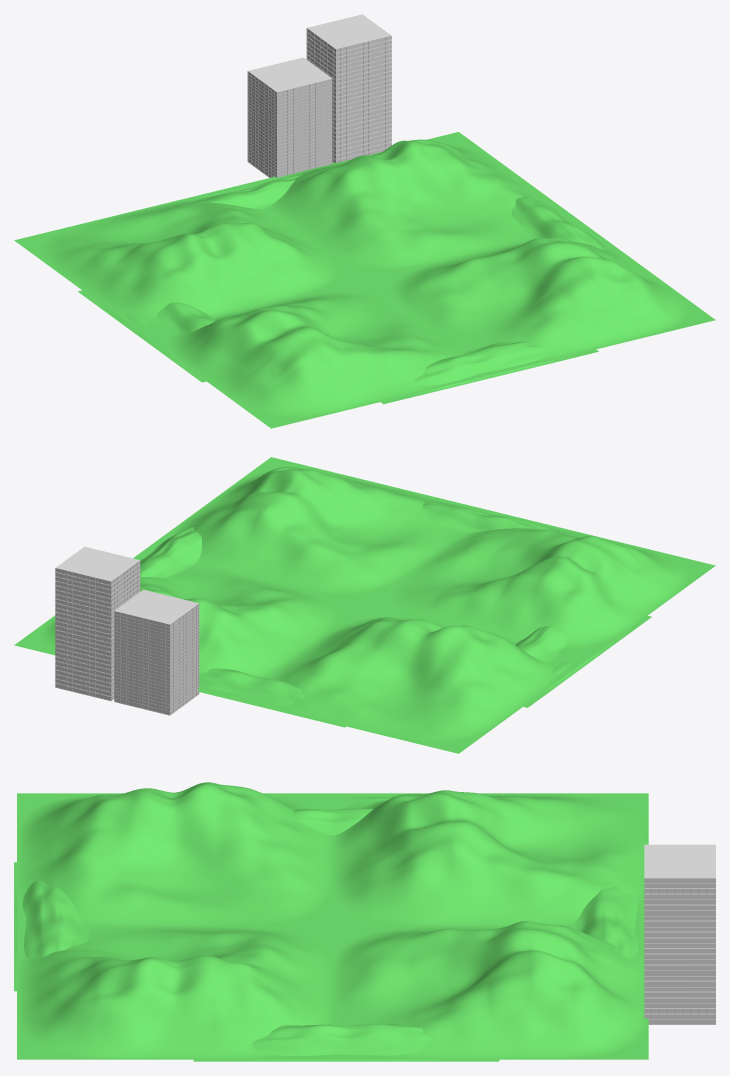
Rendered from landscape_portfolio10.glb.
The picture shows the model from 3 angles, top to bottom: view 1: azimuth 30°, elevation 25°; view 2: azimuth 150°, elevation 25°; view 3: azimuth 270°, elevation 25°; orthographic projection. The views are drawn at different scales.
Visible parts, largest first — view 1: Landscape.002, Building.001, Building, Landscape.005, Landscape.004, Landscape.001, Landscape.003; view 2: Landscape.002, Building.001, Building, Landscape.003, Landscape.005, Landscape.001, Landscape.004; view 3: Landscape.002, Building.001, Landscape.004, Landscape.005, Landscape.003, Landscape.001.
Part boxes in pixels (<box>): Landscape.002: <box>14,132,715,428</box>; Building.001: <box>306,14,391,162</box>; Building: <box>247,57,332,177</box>; Landscape.005: <box>381,341,598,404</box>; Landscape.004: <box>511,195,605,250</box>; Landscape.001: <box>78,290,215,382</box>; Landscape.003: <box>194,174,303,209</box>; Landscape.002: <box>14,457,715,753</box>; Building.001: <box>55,546,140,700</box>; Building: <box>114,589,199,715</box>; Landscape.003: <box>198,668,345,727</box>; Landscape.005: <box>422,500,556,532</box>; Landscape.001: <box>515,615,651,707</box>; Landscape.004: <box>140,527,201,577</box>; Landscape.002: <box>17,782,648,1059</box>; Building.001: <box>644,844,715,1024</box>; Landscape.004: <box>193,1024,499,1061</box>; Landscape.005: <box>14,862,90,991</box>; Landscape.003: <box>574,886,638,957</box>; Landscape.001: <box>293,797,392,835</box>.
Bounding box in the file's own units: 141 × 36.02 × 156.
